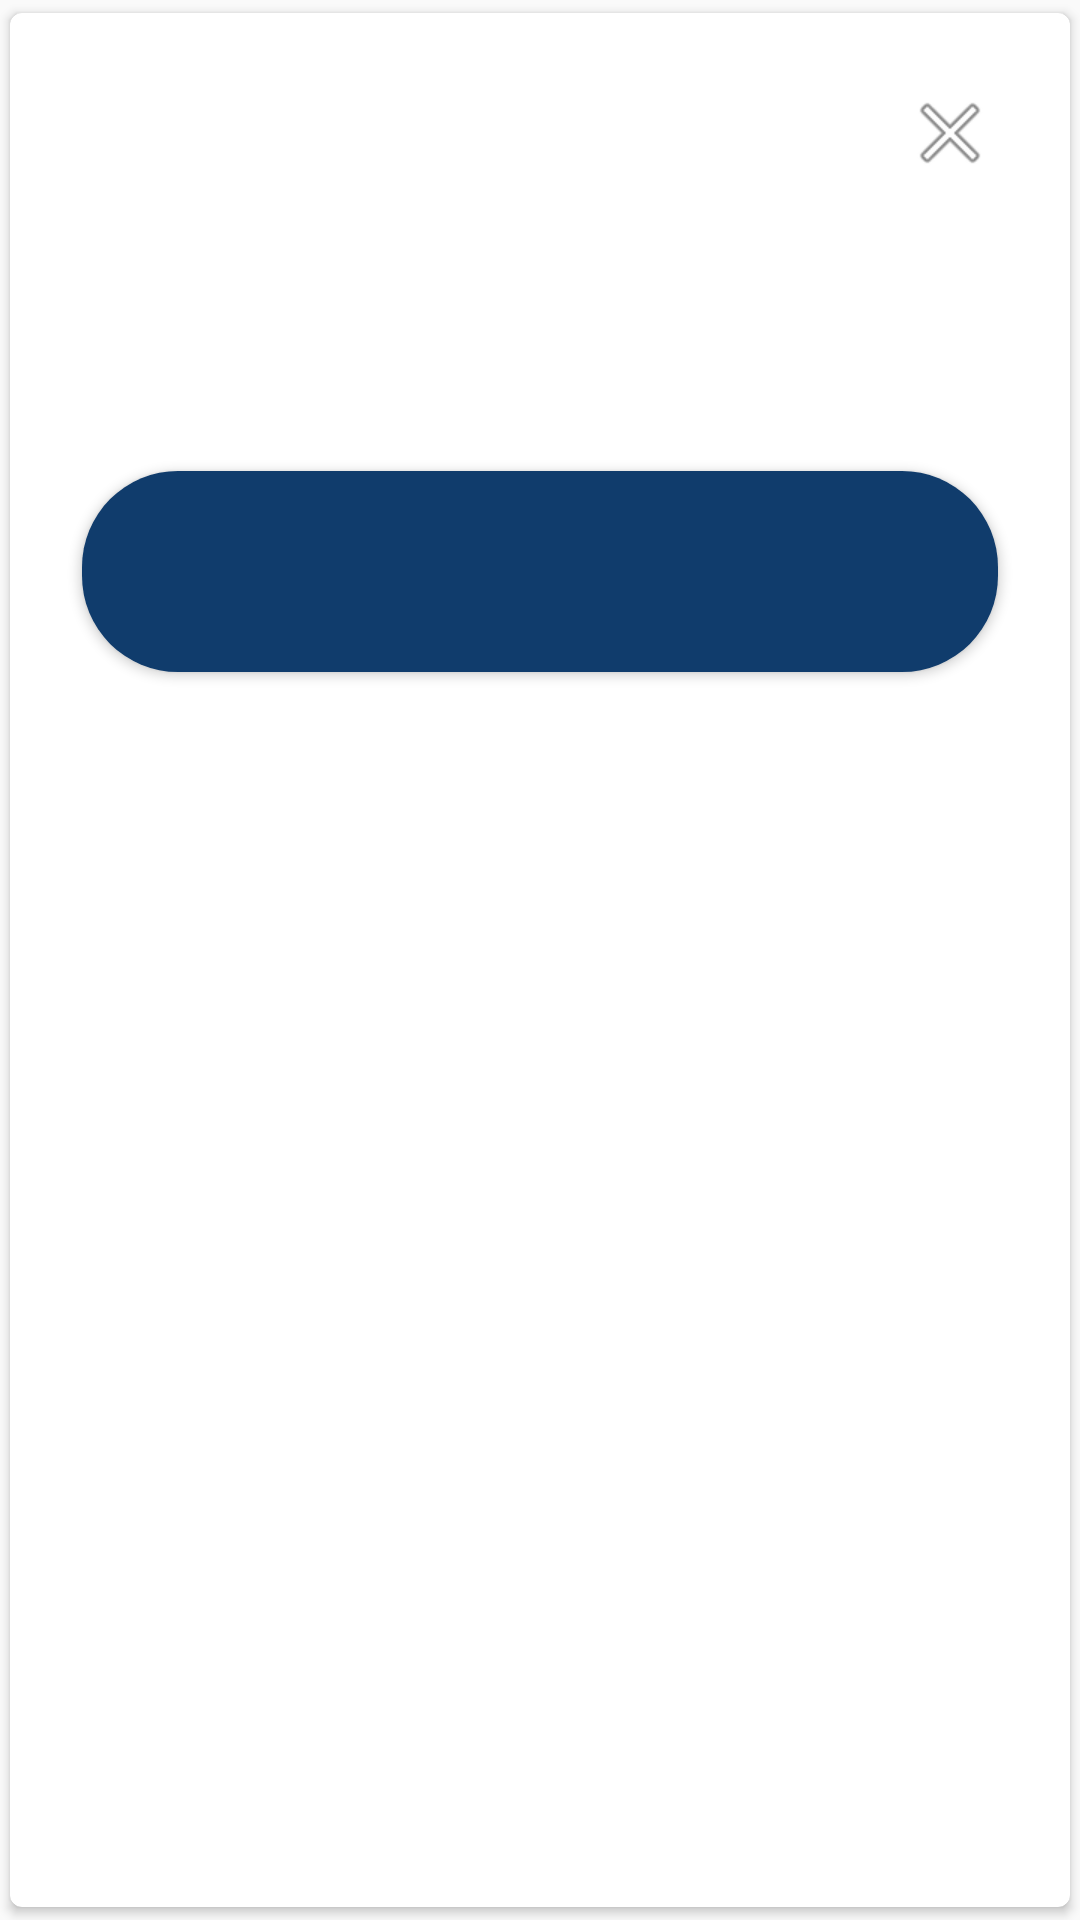

Where to tap for icons on this 1080px×1920px app screen, as (x=x, y=y):
Close: (x=950, y=133)
